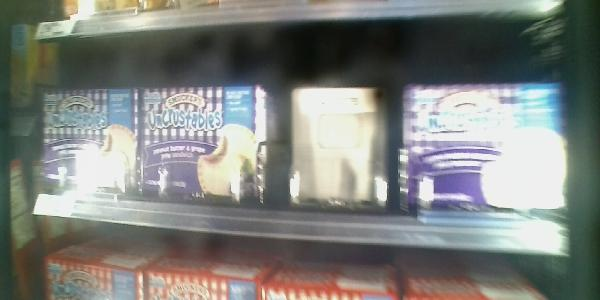icecream: (403, 85, 568, 209), (139, 87, 264, 203), (39, 90, 136, 198)
